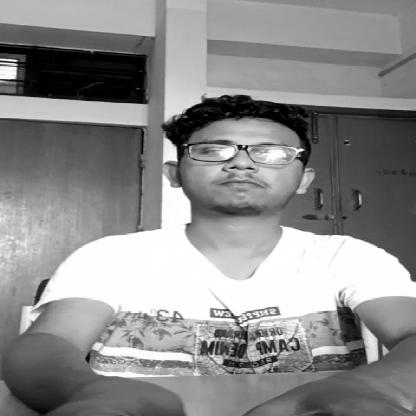Normal: (181, 100, 305, 214)
